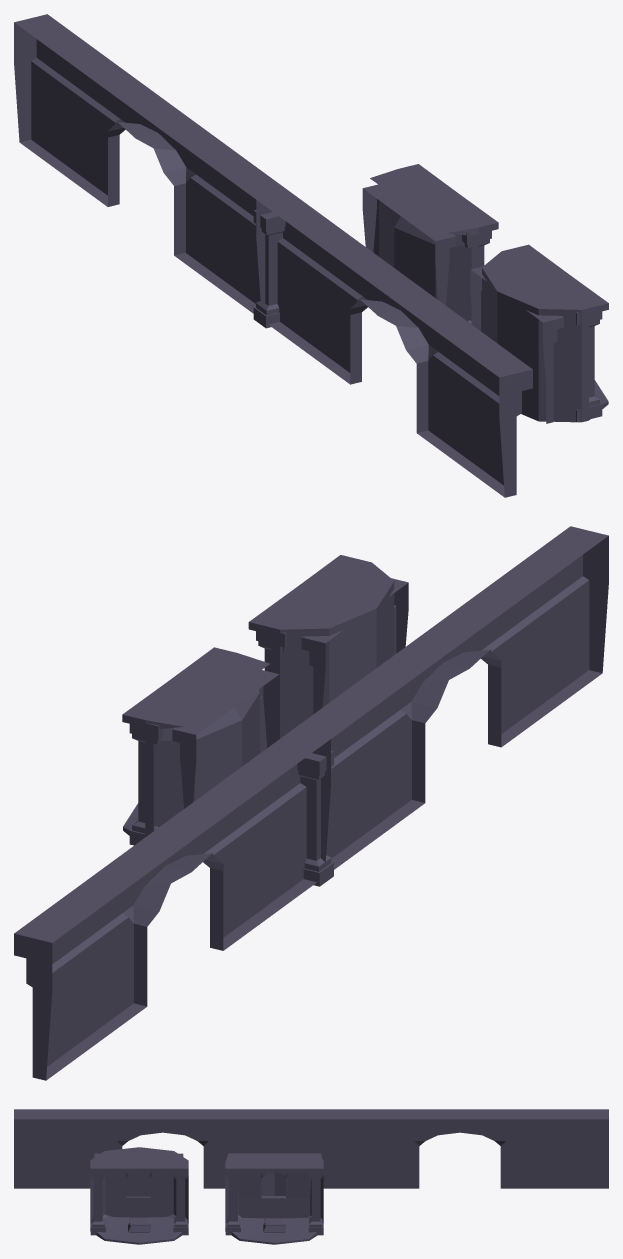
File: MuseumShowcaseParts.fbx
The picture shows the model from 3 angles, top to bottom: view 1: azimuth 30°, elevation 25°; view 2: azimuth 150°, elevation 25°; view 3: azimuth 270°, elevation 25°; orthographic projection. The views are drawn at different scales.
Visible parts, largest first — view 1: pCube97, pCube92, polySurface476, polySurface481, polySurface479, pCube98; view 2: pCube92, pCube97, polySurface476, polySurface481, polySurface479, pCube98, polySurface482; view 3: pCube97, pCube92, polySurface476, polySurface481, polySurface479, polySurface482, polySurface483, polySurface478, pCube98.
Part boxes in pixels (x1,y1,x2,y2): pCube97: [14, 14, 289, 313]; pCube92: [256, 192, 532, 497]; polySurface476: [470, 244, 608, 423]; polySurface481: [370, 164, 498, 325]; polySurface479: [362, 184, 456, 305]; pCube98: [253, 210, 285, 328]; pCube92: [293, 526, 608, 869]; pCube97: [14, 729, 330, 1080]; polySurface476: [248, 555, 408, 741]; polySurface481: [122, 647, 269, 835]; polySurface479: [172, 670, 279, 808]; pCube98: [297, 750, 333, 886]; polySurface482: [129, 719, 163, 845]; pCube97: [311, 1109, 608, 1188]; pCube92: [14, 1109, 311, 1188]; polySurface476: [90, 1147, 188, 1244]; polySurface481: [225, 1153, 323, 1244]; polySurface479: [238, 1172, 311, 1218]; polySurface482: [308, 1160, 323, 1235]; polySurface483: [225, 1172, 240, 1235]; polySurface478: [263, 1218, 285, 1232]; pCube98: [304, 1131, 319, 1153].
Size of the model in its own units: 2667 by 1632 by 11436.
